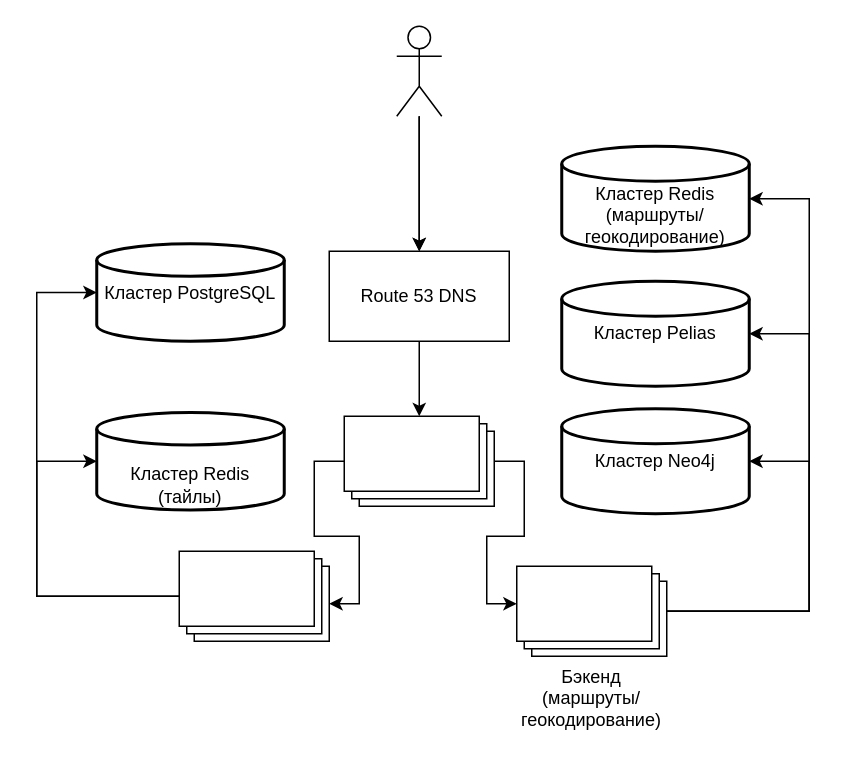
The diagram is 848 pixels wide and 758 high, and some of its shapes have lost their labels. Here are the shapes that lost their labels. From the top down, the centre of each, then its label:
At (x=418, y=70): "User".
At (x=418, y=460): "NGINX".
At (x=253, y=595): "Бэкенд (тайлы)".
